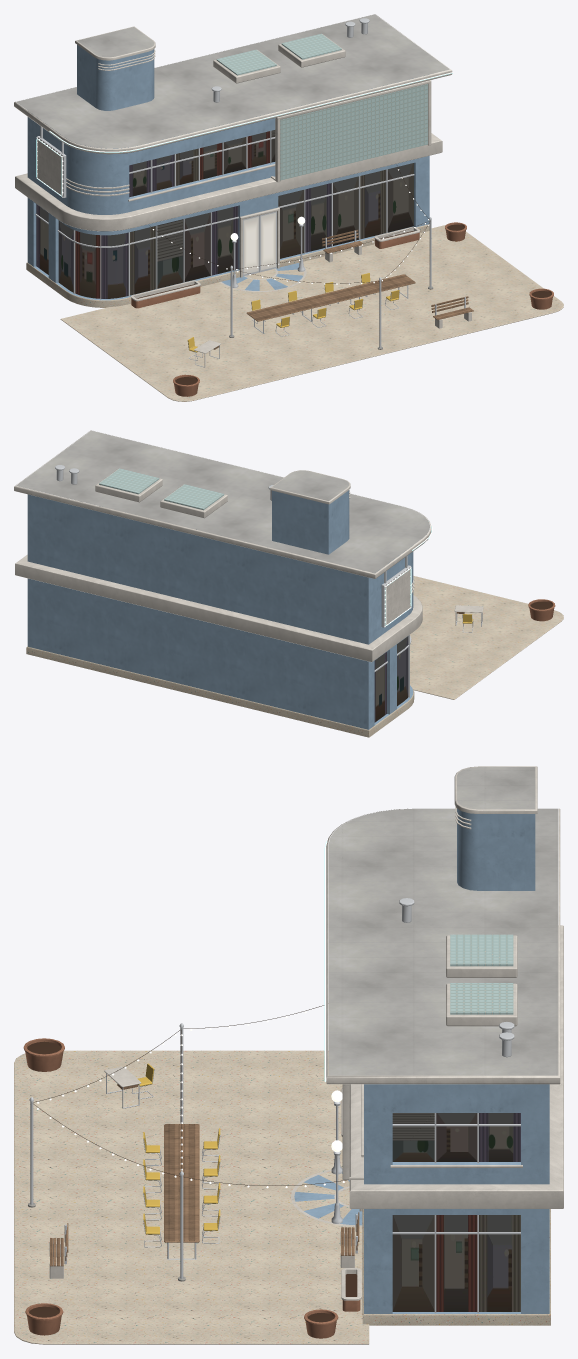
Rendered from plot_coworking.gltf.
3 views of the same model, one above another, from view 1: azimuth 30°, elevation 25°; view 2: azimuth 150°, elevation 25°; view 3: azimuth 270°, elevation 25° (orthographic). The views are drawn at different scales.
Parts seen in each view (by area): view 1: plot_coworking_mesh, sign_face; view 2: plot_coworking_mesh, sign_face; view 3: plot_coworking_mesh.
Part boxes in pixels (bbox=[...]): plot_coworking_mesh: bbox=[14, 14, 563, 401]; sign_face: bbox=[37, 138, 62, 196]; plot_coworking_mesh: bbox=[14, 430, 563, 737]; sign_face: bbox=[385, 568, 410, 625]; plot_coworking_mesh: bbox=[14, 766, 563, 1344].
Bounding box in the file's own units: 19.4 × 10.43 × 15.4.
Materials: 14 (10 with a texture image).
